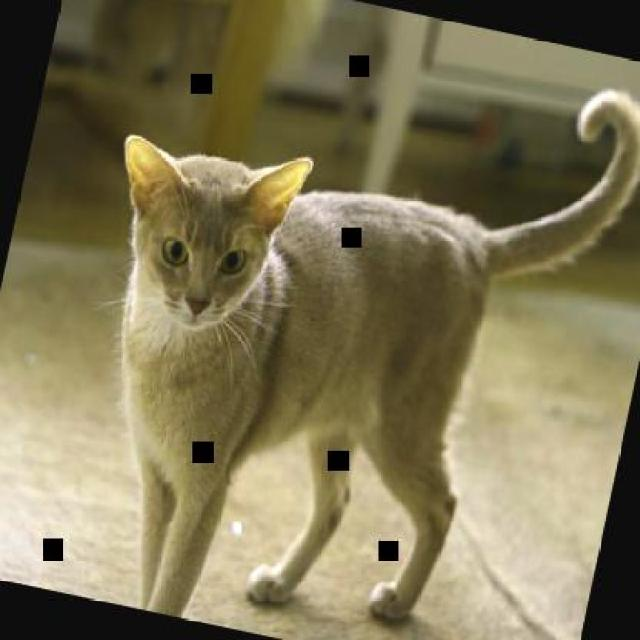cat: (29, 116, 631, 638)
